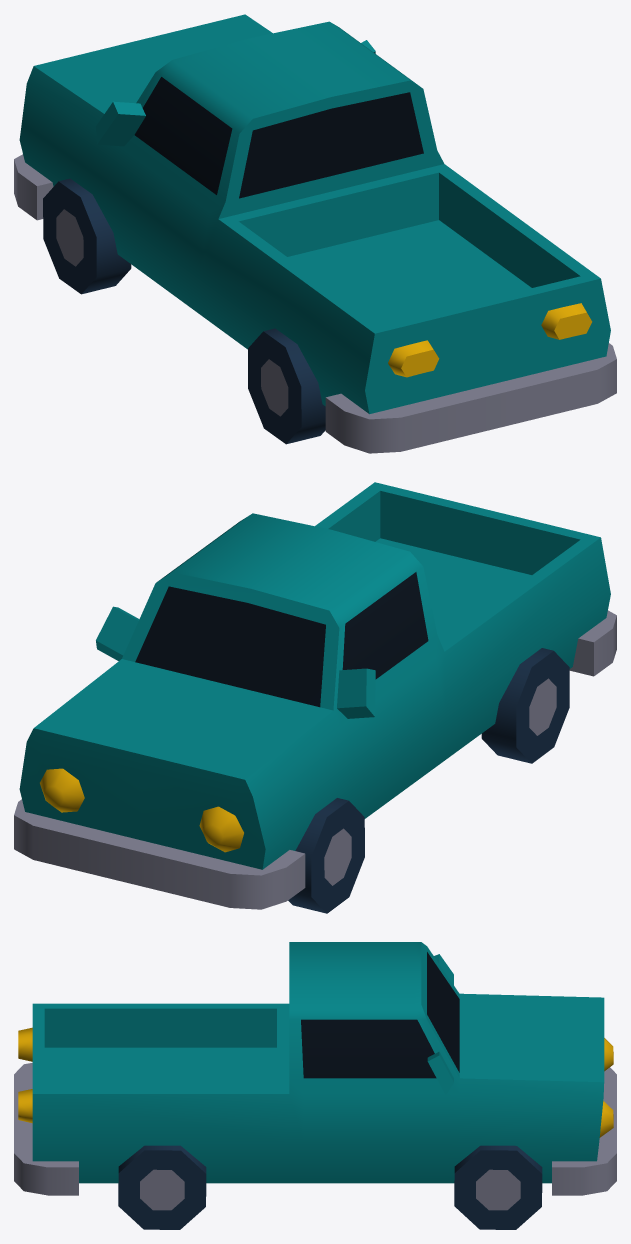
Rendered from CarPickup (2).fbx.
The picture shows the model from 3 angles, top to bottom: view 1: azimuth 30°, elevation 25°; view 2: azimuth 150°, elevation 25°; view 3: azimuth 270°, elevation 25°; orthographic projection. The views are drawn at different scales.
Visible parts, largest first — view 1: Cube.045; view 2: Cube.045; view 3: Cube.045.
Boxes of the visible parts, x1,y1,x2,y2 form: Cube.045: (14,14,616,453); Cube.045: (14,482,616,913); Cube.045: (14,942,616,1229).
Size of the model in its own units: 24.44 by 21 by 55.97.
